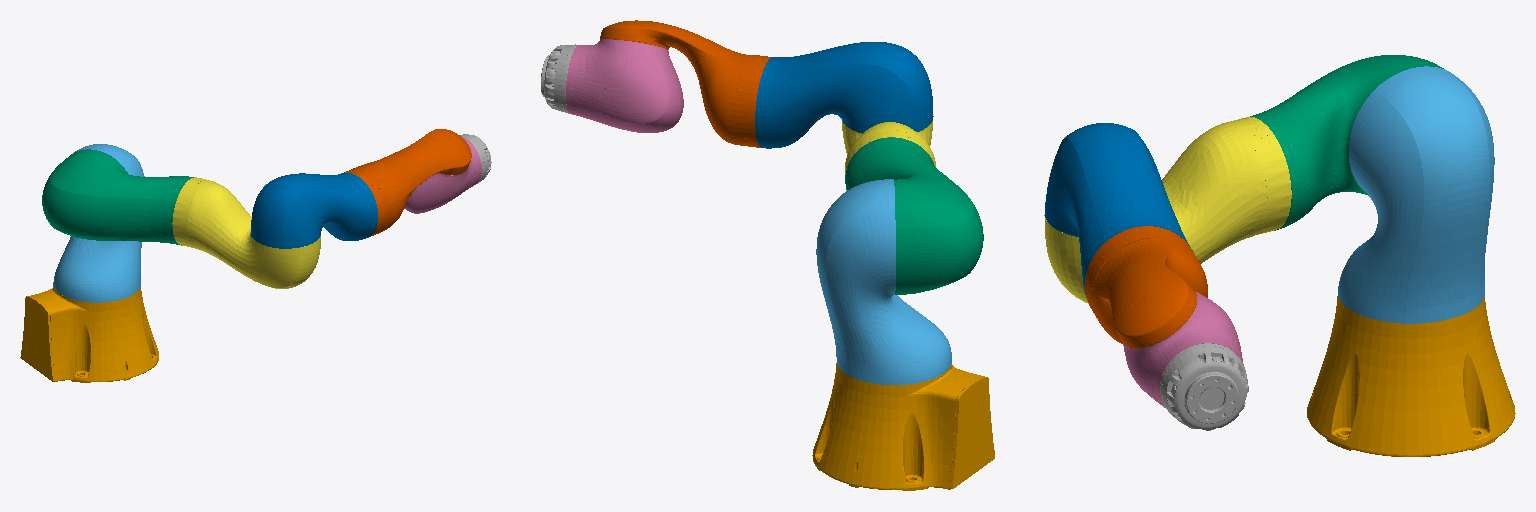
robot.urdf — iiwa_narrowerd_range:
<?xml version="1.0" encoding="UTF-8"?>
<robot name="iiwa_narrowerd_range">
  <joint name="iiwa_joint_1" type="revolute">
    <origin xyz="0. -0.0093516 0.1575 " rpy="0. 0. 0."/>
    <parent link="world"/>
    <child link="iiwa_link_1"/>
    <axis xyz="0. 0. 1."/>
    <limit lower="-2.9670597" upper="2.9670595" effort="300." velocity="9.9999995"/>
  </joint>
  <joint name="iiwa_joint_2" type="revolute">
    <origin xyz="0. -0. 0.2025" rpy="1.5707963 0.0000002 -1.0227649"/>
    <parent link="iiwa_link_1"/>
    <child link="iiwa_link_2"/>
    <axis xyz="0. 0. 1."/>
    <limit lower="-1.5707963" upper="1.5707963" effort="300." velocity="9.9999995"/>
  </joint>
  <joint name="iiwa_joint_3" type="revolute">
    <origin xyz="0.2045 0. -0. " rpy="1.5707965 0.0000001 1.5707966"/>
    <parent link="iiwa_link_2"/>
    <child link="iiwa_link_3"/>
    <axis xyz="0. 0. 1."/>
    <limit lower="-1.5707963" upper="1.5707963" effort="300." velocity="9.9999995"/>
  </joint>
  <joint name="iiwa_joint_4" type="revolute">
    <origin xyz="0.0000001 -0. 0.2155 " rpy="1.5707965 -0.0000002 1.5707963"/>
    <parent link="iiwa_link_3"/>
    <child link="iiwa_link_4"/>
    <axis xyz="0. 0. 1."/>
    <limit lower="-2.0943951" upper="2.0943951" effort="300." velocity="9.9999995"/>
  </joint>
  <joint name="iiwa_joint_5" type="revolute">
    <origin xyz="-0.1760573 0.0551731 -0. " rpy="1.5707963 0. -1.8744842"/>
    <parent link="iiwa_link_4"/>
    <child link="iiwa_link_5"/>
    <axis xyz="0. 0. 1."/>
    <limit lower="-1.5707963" upper="1.5707963" effort="300." velocity="9.9999995"/>
  </joint>
  <joint name="iiwa_joint_6" type="revolute">
    <origin xyz="-0.0000001 -0. 0.2155 " rpy="1.5707961 -0.0000002 0.5585053"/>
    <parent link="iiwa_link_5"/>
    <child link="iiwa_link_6"/>
    <axis xyz="0. 0. 1."/>
    <limit lower="0." upper="0." effort="300." velocity="9.9999995"/>
  </joint>
  <joint name="iiwa_joint_7" type="revolute">
    <origin xyz="0. 0.081 0. " rpy="1.5707963 -0.0000002 3.1415927"/>
    <parent link="iiwa_link_6"/>
    <child link="iiwa_link_7"/>
    <axis xyz="0. 0. 1."/>
    <limit lower="0." upper="0." effort="300." velocity="9.9999995"/>
  </joint>
  <joint name="root_joint" type="fixed">
    <origin xyz="-0. 0.0093516 -0.0000001" rpy="0. 0. 0."/>
    <parent link="iiwa14"/>
    <child link="world"/>
  </joint>
  <link name="iiwa14"/>
  <link name="iiwa_link_1">
    <inertial>
      <origin xyz="0. -0.03 0.12" rpy="0. 0. 0."/>
      <mass value="4."/>
      <inertia ixx="0.1" ixy="0." ixz="0." iyy="0.09" iyz="0." izz="0.02"/>
    </inertial>
    <visual>
      <origin xyz="0. 0. -0." rpy="0.0000001 -0.0000002 2.1188276"/>
      <geometry>
        <mesh filename="meshes/iiwa_link_1_visuals_link_1_mesh.obj" scale="1. 1. 1."/>
      </geometry>
    </visual>
    <visual>
      <origin xyz="0. 0. -0." rpy="0.0000001 -0.0000002 2.1188276"/>
      <geometry>
        <mesh filename="meshes/iiwa_link_1_collisions_link_1_mesh.obj" scale="1. 1. 1."/>
      </geometry>
    </visual>
  </link>
  <link name="iiwa_link_2">
    <inertial>
      <origin xyz="0.0003 0.059 0.042 " rpy="0. 0. 0."/>
      <mass value="4."/>
      <inertia ixx="0.05" ixy="0." ixz="0." iyy="0.018" iyz="0." izz="0.044"/>
    </inertial>
    <visual>
      <origin xyz="0. -0. -0." rpy="-0.0000002 -0.0000001 -1.5707961"/>
      <geometry>
        <mesh filename="meshes/iiwa_link_2_visuals_link_2_mesh.obj" scale="1. 1. 1."/>
      </geometry>
    </visual>
    <visual>
      <origin xyz="0. -0. -0." rpy="-0.0000002 -0.0000001 -1.5707961"/>
      <geometry>
        <mesh filename="meshes/iiwa_link_2_collisions_link_2_mesh.obj" scale="1. 1. 1."/>
      </geometry>
    </visual>
  </link>
  <link name="iiwa_link_3">
    <inertial>
      <origin xyz="0. 0.03 0.13" rpy="0. 0. 0."/>
      <mass value="3."/>
      <inertia ixx="0.08" ixy="0." ixz="0." iyy="0.075" iyz="0." izz="0.01"/>
    </inertial>
    <visual>
      <origin xyz="0. -0. -0." rpy="0.0000002 -0.0000002 1.5707963"/>
      <geometry>
        <mesh filename="meshes/iiwa_link_3_visuals_link_3_mesh.obj" scale="1. 1. 1."/>
      </geometry>
    </visual>
    <visual>
      <origin xyz="0. -0. -0." rpy="0.0000002 -0.0000002 1.5707963"/>
      <geometry>
        <mesh filename="meshes/iiwa_link_3_collisions_link_3_mesh.obj" scale="1. 1. 1."/>
      </geometry>
    </visual>
  </link>
  <link name="iiwa_link_4">
    <inertial>
      <origin xyz="0. 0.067 0.034" rpy="0. 0. 0."/>
      <mass value="2.7"/>
      <inertia ixx="0.03" ixy="0." ixz="0." iyy="0.01" iyz="0." izz="0.029"/>
    </inertial>
    <visual>
      <origin xyz="0. -0. -0." rpy="0.0000001 -0.0000001 1.2671084"/>
      <geometry>
        <mesh filename="meshes/iiwa_link_4_visuals_link_4_mesh.obj" scale="1. 1. 1."/>
      </geometry>
    </visual>
    <visual>
      <origin xyz="0. -0. -0." rpy="0.0000001 -0.0000001 1.2671084"/>
      <geometry>
        <mesh filename="meshes/iiwa_link_4_collisions_link_4_mesh.obj" scale="1. 1. 1."/>
      </geometry>
    </visual>
  </link>
  <link name="iiwa_link_5">
    <inertial>
      <origin xyz="0.0001 0.021 0.076 " rpy="0. 0. 0."/>
      <mass value="1.7"/>
      <inertia ixx="0.02" ixy="0." ixz="0." iyy="0.018" iyz="0." izz="0.005"/>
    </inertial>
    <visual>
      <origin xyz="-0. -0. -0." rpy="-0.0000001 -0.0000002 0.5585053"/>
      <geometry>
        <mesh filename="meshes/iiwa_link_5_visuals_link_5_mesh.obj" scale="1. 1. 1."/>
      </geometry>
    </visual>
    <visual>
      <origin xyz="-0. -0. -0." rpy="-0.0000001 -0.0000002 0.5585053"/>
      <geometry>
        <mesh filename="meshes/iiwa_link_5_collisions_link_5_mesh.obj" scale="1. 1. 1."/>
      </geometry>
    </visual>
  </link>
  <link name="iiwa_link_6">
    <inertial>
      <origin xyz="0. 0.0006 0.0004" rpy="0. 0. 0."/>
      <mass value="1.8"/>
      <inertia ixx="0.005" ixy="0." ixz="0." iyy="0.0036" iyz="0." izz="0.0047"/>
    </inertial>
    <visual>
      <origin xyz="0. -0. 0." rpy="0.0000001 0.0000001 -0. "/>
      <geometry>
        <mesh filename="meshes/iiwa_link_6_visuals_link_6_mesh.obj" scale="1. 1. 1."/>
      </geometry>
    </visual>
    <visual>
      <origin xyz="0. -0. 0." rpy="0.0000001 0.0000001 -0. "/>
      <geometry>
        <mesh filename="meshes/iiwa_link_6_collisions_link_6_mesh.obj" scale="1. 1. 1."/>
      </geometry>
    </visual>
  </link>
  <link name="iiwa_link_7">
    <inertial>
      <origin xyz="0. 0. 0.02" rpy="0. 0. 0."/>
      <mass value="0.3"/>
      <inertia ixx="0.001" ixy="0." ixz="0." iyy="0.001" iyz="0." izz="0.001"/>
    </inertial>
    <visual>
      <origin xyz="0. -0. 0." rpy="-0. 0.0000001 0. "/>
      <geometry>
        <mesh filename="meshes/iiwa_link_7_visuals_link_7_mesh.obj" scale="1. 1. 1."/>
      </geometry>
    </visual>
    <visual>
      <origin xyz="0. -0. 0." rpy="-0. 0.0000001 0. "/>
      <geometry>
        <mesh filename="meshes/iiwa_link_7_collisions_link_7_mesh.obj" scale="1. 1. 1."/>
      </geometry>
    </visual>
  </link>
  <link name="world">
    <inertial>
      <origin xyz="-0.1 0. 0.07" rpy="0. 0. 0."/>
      <mass value="5."/>
      <inertia ixx="0.05" ixy="0." ixz="0." iyy="0.06" iyz="0." izz="0.03"/>
    </inertial>
    <visual>
      <origin xyz="0. -0.0093516 0.0000001" rpy="0. 0. 0."/>
      <geometry>
        <mesh filename="meshes/world_visuals_link_0_mesh.obj" scale="1. 1. 1."/>
      </geometry>
    </visual>
    <visual>
      <origin xyz="0. -0.0093516 0.0000001" rpy="0. 0. 0."/>
      <geometry>
        <mesh filename="meshes/world_collisions_link_0_mesh.obj" scale="1. 1. 1."/>
      </geometry>
    </visual>
  </link>
</robot>

--- Facts derived from the render (not from the file) ---
Views: 3 orthographic renders of the robot side by side, from view 1: azimuth 30°, elevation 25°; view 2: azimuth 150°, elevation 25°; view 3: azimuth 270°, elevation 25°.
Model iiwa_narrowerd_range with 9 links and 8 joints (7 revolute, 1 fixed), rooted at iiwa14, posed all joints at 0.
Visible links, largest first — view 1: world, iiwa_link_2, iiwa_link_3, iiwa_link_4, iiwa_link_1, iiwa_link_5, iiwa_link_6; view 2: world, iiwa_link_1, iiwa_link_4, iiwa_link_2, iiwa_link_6, iiwa_link_5, iiwa_link_3, iiwa_link_7; view 3: iiwa_link_1, world, iiwa_link_3, iiwa_link_4, iiwa_link_5, iiwa_link_2, iiwa_link_7, iiwa_link_6.
Link boxes in pixels (x1,y1,x2,y2): world: [20, 286, 158, 382]; iiwa_link_2: [42, 150, 193, 245]; iiwa_link_3: [172, 177, 320, 288]; iiwa_link_4: [251, 173, 377, 248]; iiwa_link_1: [53, 144, 144, 302]; iiwa_link_5: [344, 129, 471, 236]; iiwa_link_6: [404, 137, 481, 213]; world: [812, 363, 994, 490]; iiwa_link_1: [816, 179, 951, 384]; iiwa_link_4: [755, 42, 933, 148]; iiwa_link_2: [845, 137, 983, 294]; iiwa_link_6: [566, 39, 683, 132]; iiwa_link_5: [600, 20, 770, 147]; iiwa_link_3: [842, 121, 935, 174]; iiwa_link_7: [541, 44, 576, 113]; iiwa_link_1: [1338, 66, 1494, 323]; world: [1307, 296, 1515, 456]; iiwa_link_3: [1044, 117, 1291, 303]; iiwa_link_4: [1045, 123, 1192, 297]; iiwa_link_5: [1085, 226, 1207, 348]; iiwa_link_2: [1250, 55, 1443, 230]; iiwa_link_7: [1160, 343, 1248, 430]; iiwa_link_6: [1123, 292, 1243, 407].
Bounding box of the posed robot: 0.8726 × 0.5484 × 0.4746 m (x, y, z).
14 mesh visuals loaded from 16 distinct referenced files (14 OBJ); not drawn: 2 (reference not matched to a file when rendering).
